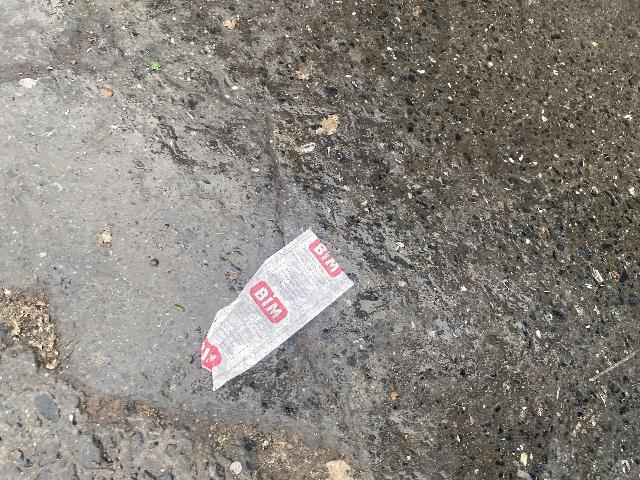Kagit: (187, 213, 362, 397)
